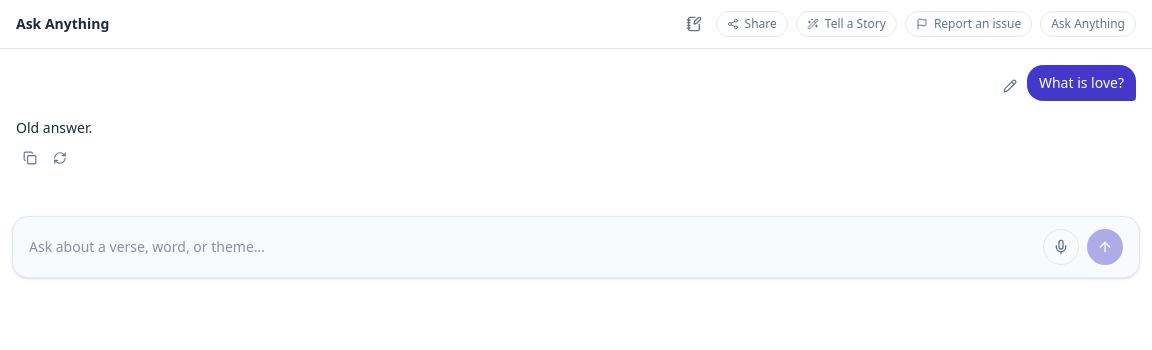
Test: ChatPane › cancelling an edit leaves the conversation untouched
The image size is (1152, 350).
Step 1. Click the button named "Edit message" → (1010, 86), box [999,75,1021,97]
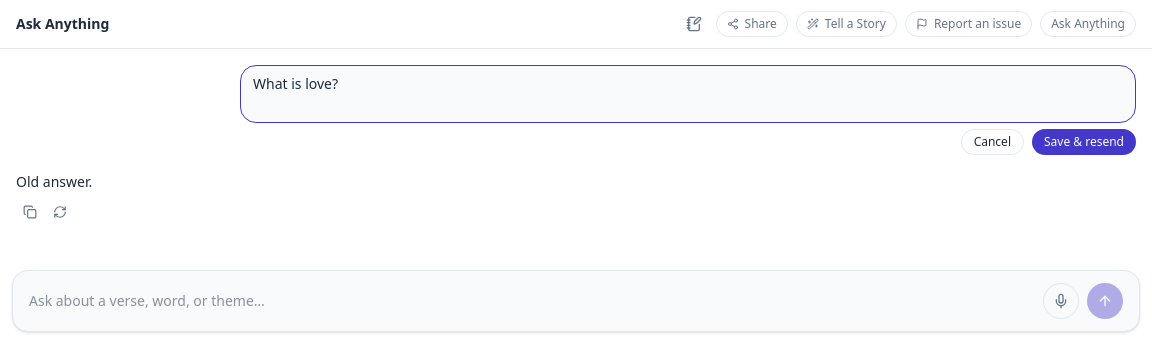
Step 2. Click the button "Cancel" → (992, 142), box [961,129,1024,155]
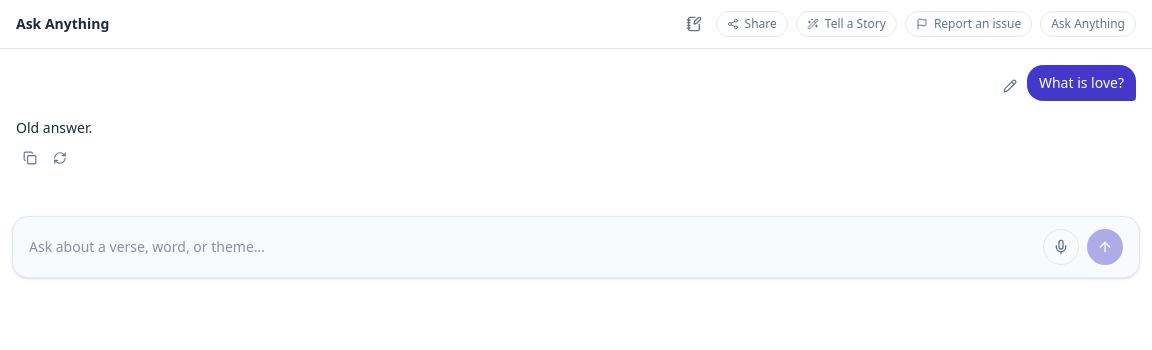
Expected: the text "Old answer." is shown, [16,117,92,138]
Now the text "What is love?" is shown, box [1027,65,1136,101]
